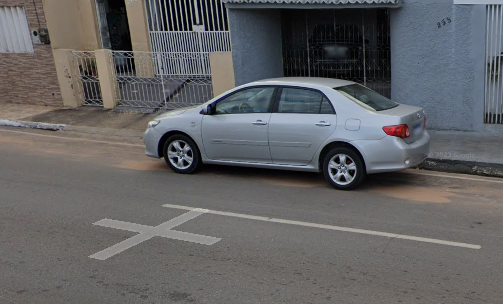car: (137, 71, 434, 194)
